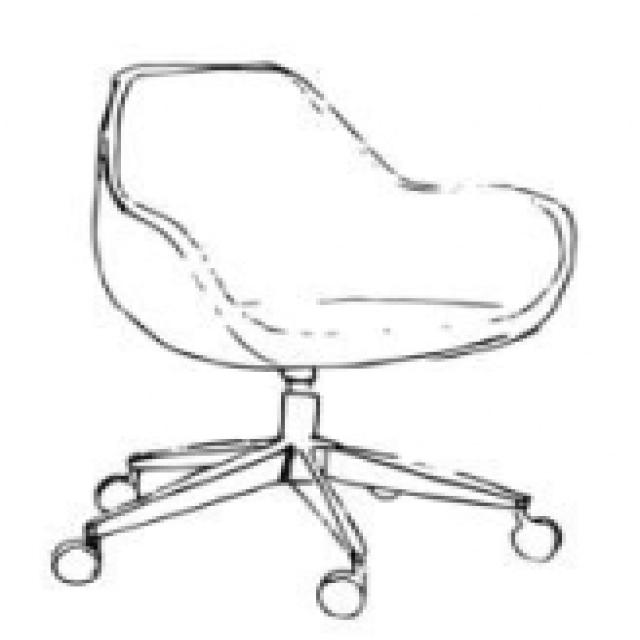5_Star_Base: (42, 387, 571, 625)
Armrest: (91, 179, 276, 374), (350, 169, 578, 308)
Backrest: (105, 63, 394, 302)
Caster_Wheel: (301, 558, 385, 625), (42, 524, 113, 594), (496, 506, 569, 571), (83, 466, 149, 523)
Seat: (177, 285, 555, 382)
